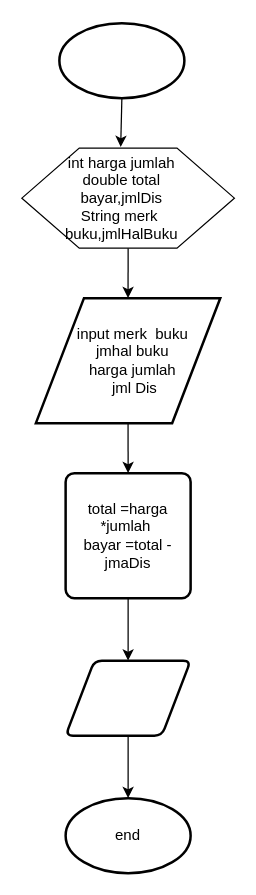
This 256x895 diagram has some shape labels left out. The shapes that lost their labels are listed below. From the top down, each one's box as (x1, y1, x2, y2) in pixels, then its label:
(58, 21, 185, 99): start
(64, 659, 191, 736): tampilkan merk buku hal buku jumlah yang dibayarkan
